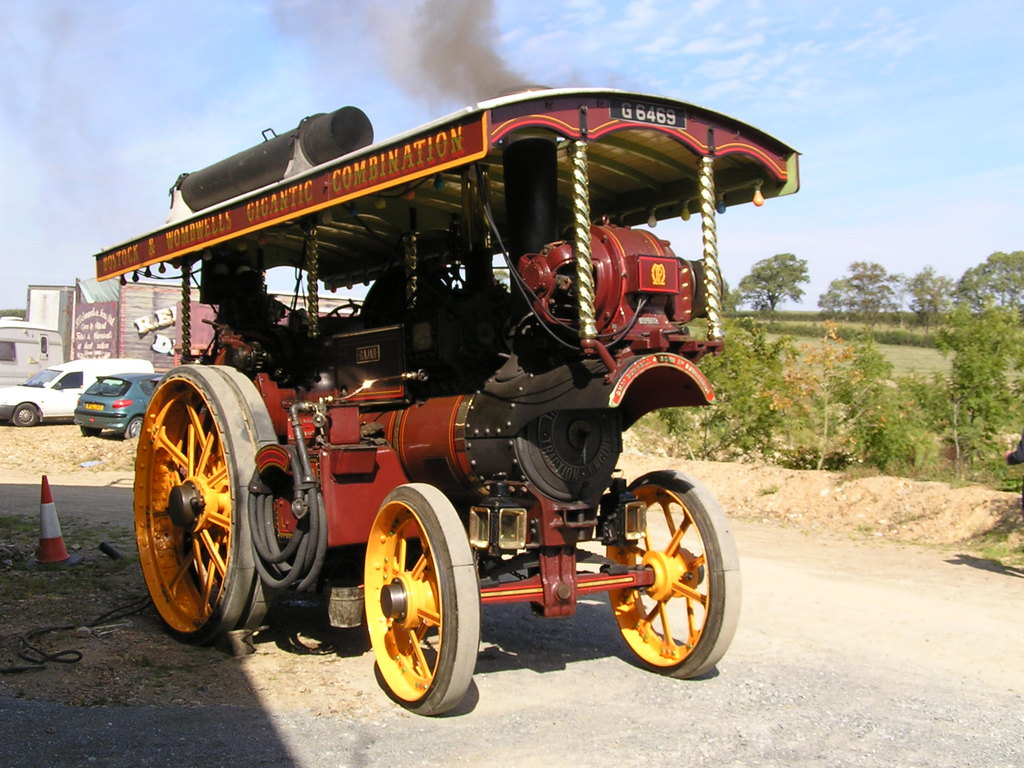Car: (74, 370, 168, 435)
